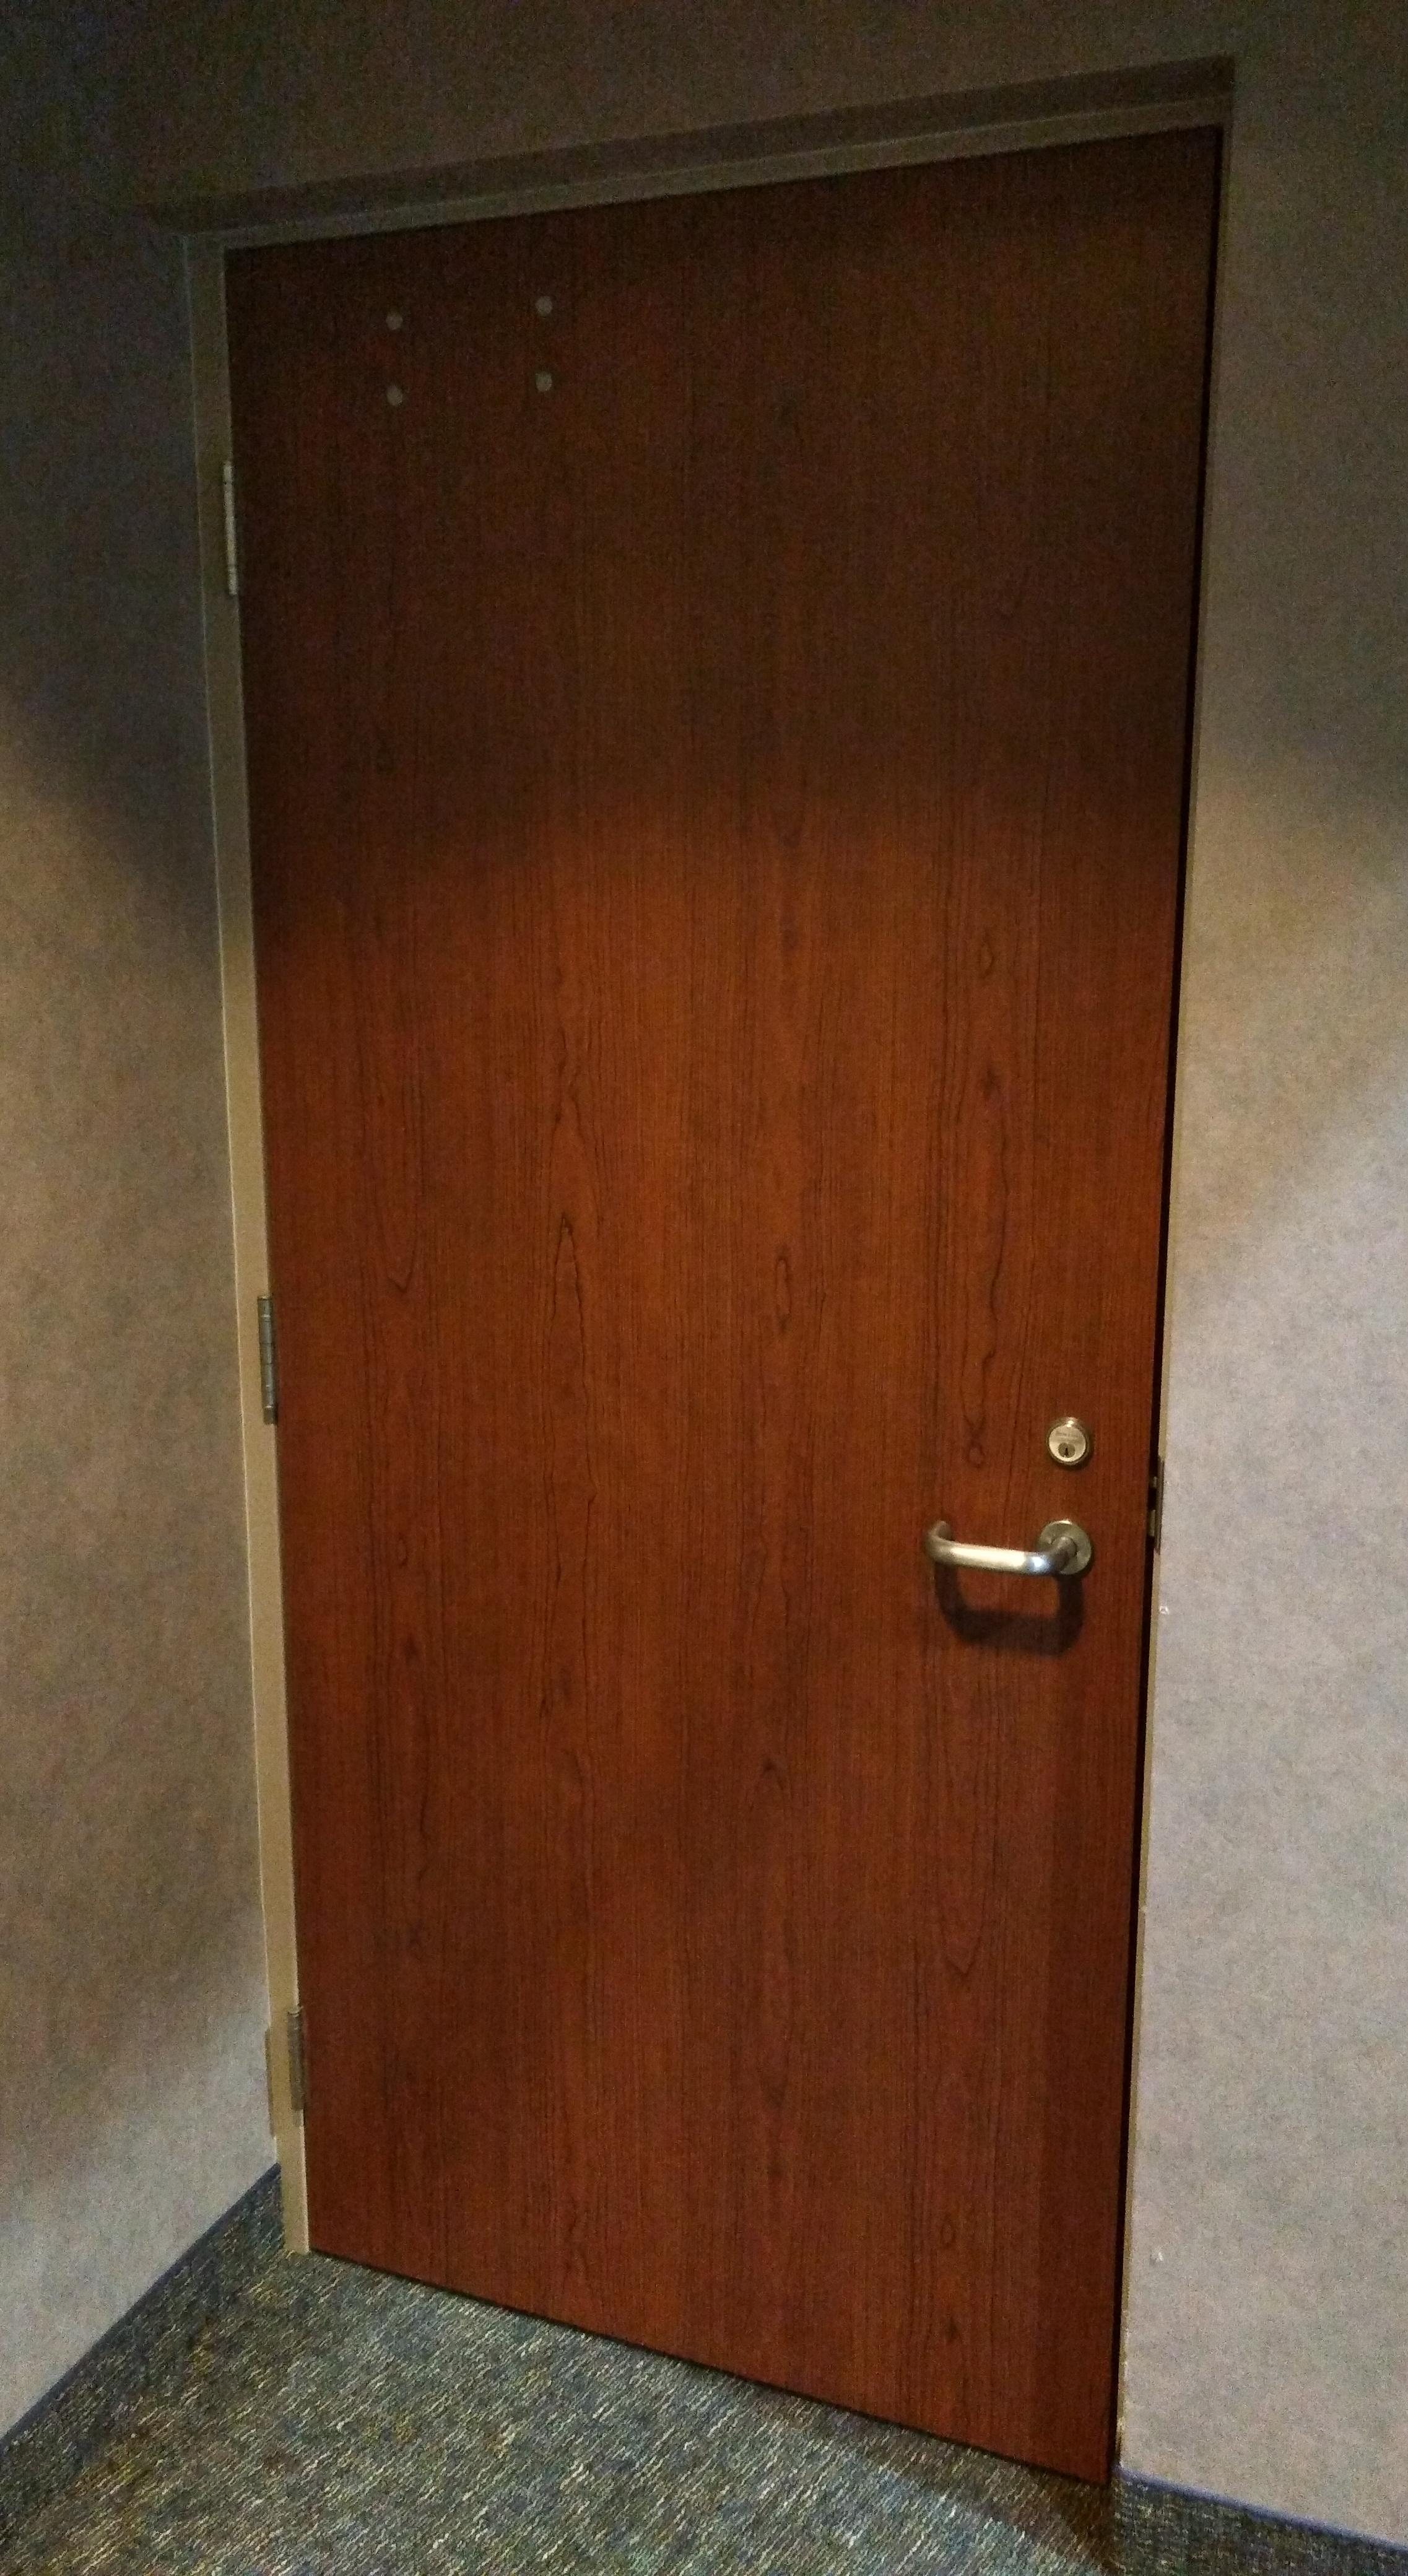door: (165, 69, 1242, 2474)
